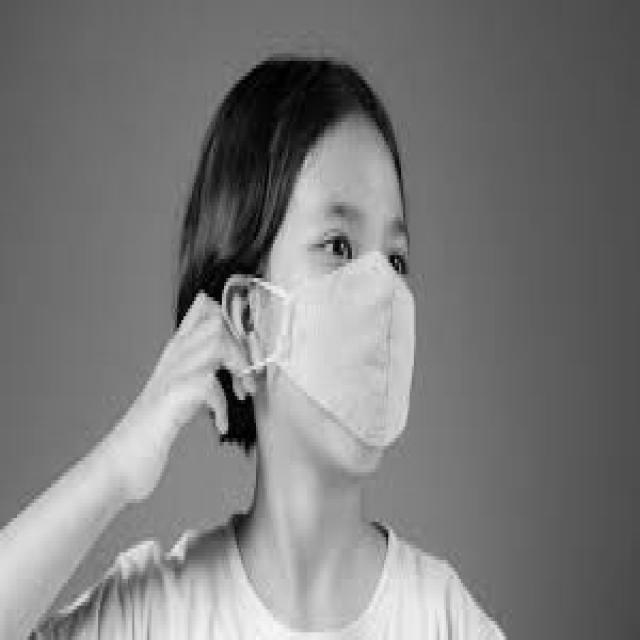fake: (268, 263, 415, 450)
real: (266, 105, 415, 480)
